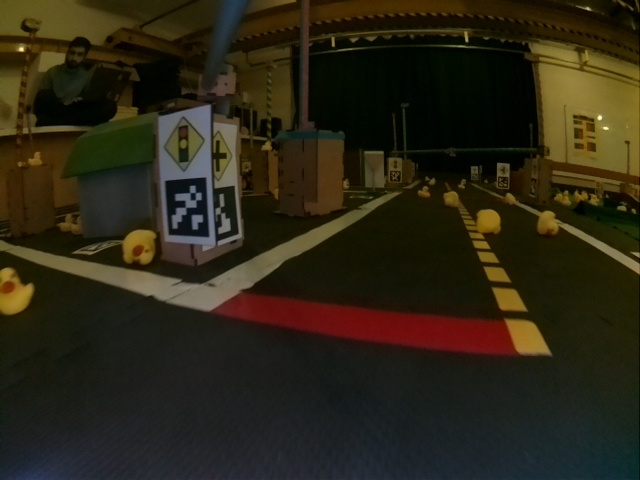Duckie: (2, 267, 34, 316), (122, 230, 156, 264), (477, 209, 501, 235), (538, 211, 559, 234), (444, 191, 459, 207), (59, 215, 70, 231), (29, 152, 41, 165), (74, 216, 81, 234), (419, 187, 428, 197)
Intersection sign: (213, 129, 235, 181)
QR code: (163, 178, 211, 240), (213, 187, 241, 236), (73, 239, 122, 256), (499, 178, 508, 188), (390, 172, 399, 181)
Signal sign: (160, 116, 204, 172), (390, 159, 400, 169)
